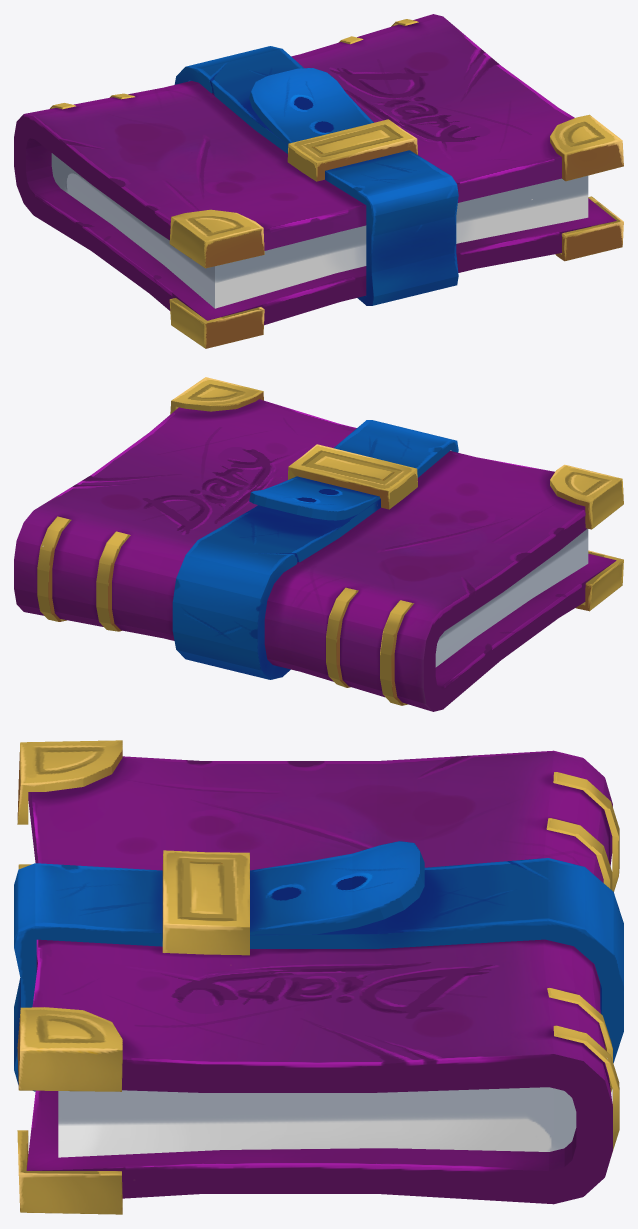
File: reflection_diary.glb
The picture shows the model from 3 angles, top to bottom: view 1: azimuth 30°, elevation 25°; view 2: azimuth 150°, elevation 25°; view 3: azimuth 270°, elevation 25°; orthographic projection. The views are drawn at different scales.
Parts seen in each view (by area): view 1: Object_2; view 2: Object_2; view 3: Object_2.
Part boxes in pixels (<box>): Object_2: <box>14,14,623,348</box>; Object_2: <box>14,377,623,711</box>; Object_2: <box>14,740,623,1214</box>.
Bounding box in the file's own units: 6.81 × 2.07 × 5.62.
Materials: 1 (1 with a texture image).
